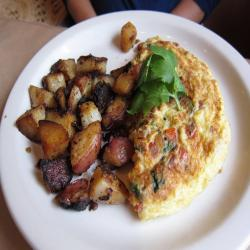omelette: (129, 38, 230, 226)
